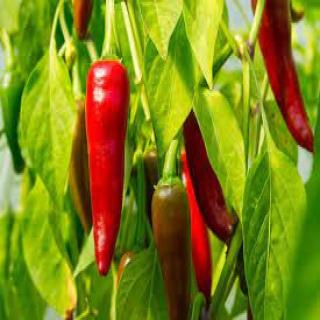Cabai Merah: (84, 60, 131, 277), (259, 1, 315, 153), (153, 133, 191, 320), (183, 112, 236, 241), (69, 95, 94, 241)
